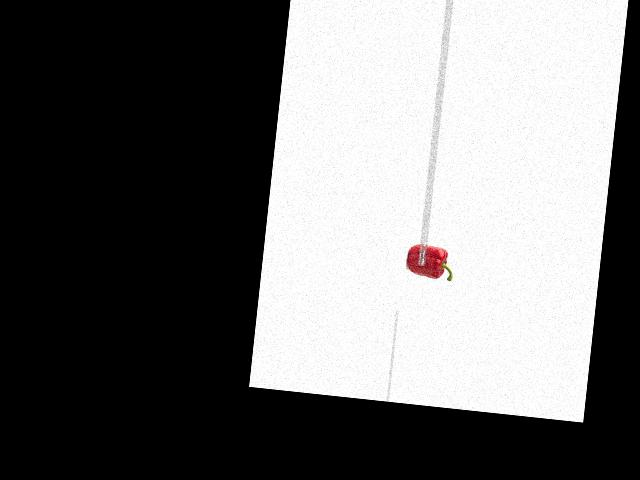bell_pepper: (406, 240, 458, 286)
